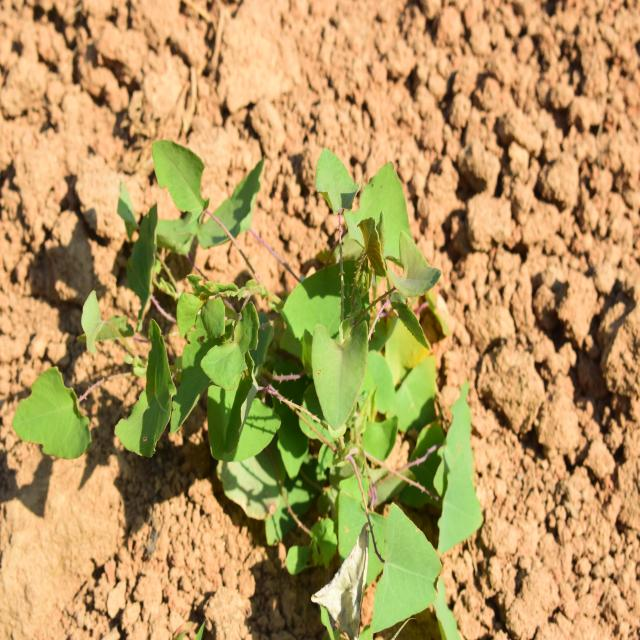Asiatic_Smartweed: (300, 145, 450, 424), (364, 397, 483, 623), (121, 304, 287, 463), (122, 143, 274, 292), (15, 371, 96, 464)
